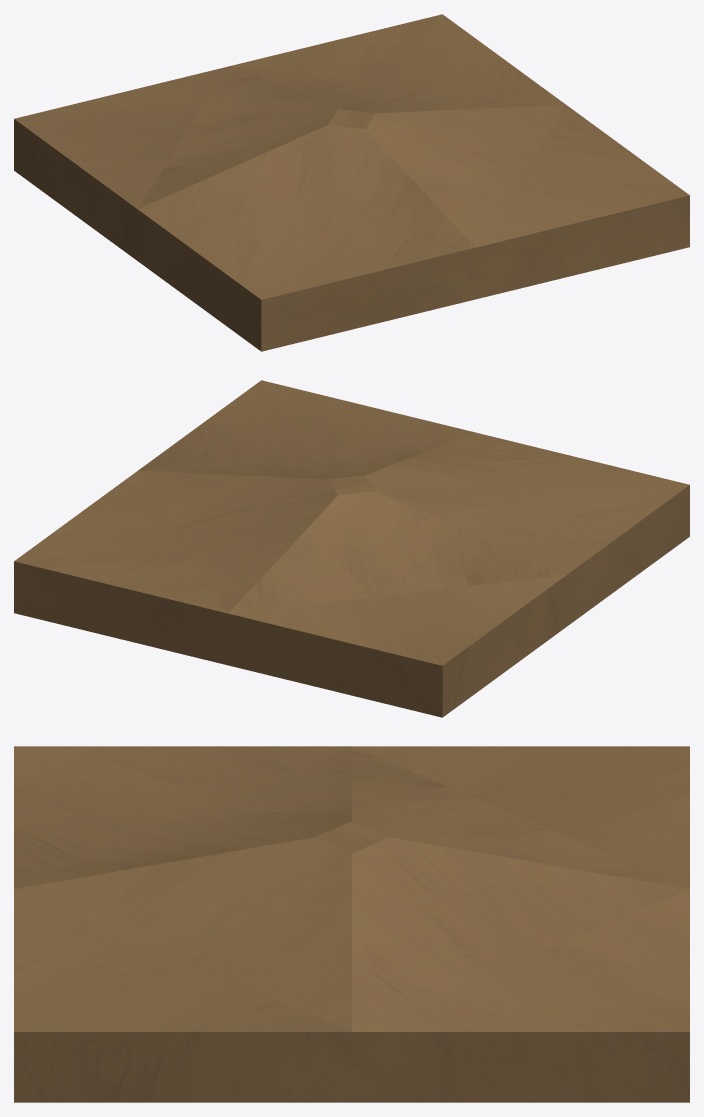
Rendered from 5x5Bump.glb.
3 views of the same model, one above another, from view 1: azimuth 30°, elevation 25°; view 2: azimuth 150°, elevation 25°; view 3: azimuth 270°, elevation 25° (orthographic). The views are drawn at different scales.
Parts seen in each view (by area): view 1: 5x5Bump; view 2: 5x5Bump; view 3: 5x5Bump.
Part boxes in pixels (x1,y1,x2,y2): 5x5Bump: (14,14,689,351); 5x5Bump: (14,380,689,717); 5x5Bump: (14,746,689,1102).
Size of the model in its own units: 10 by 2 by 10.
Materials: 1 (1 with a texture image).
